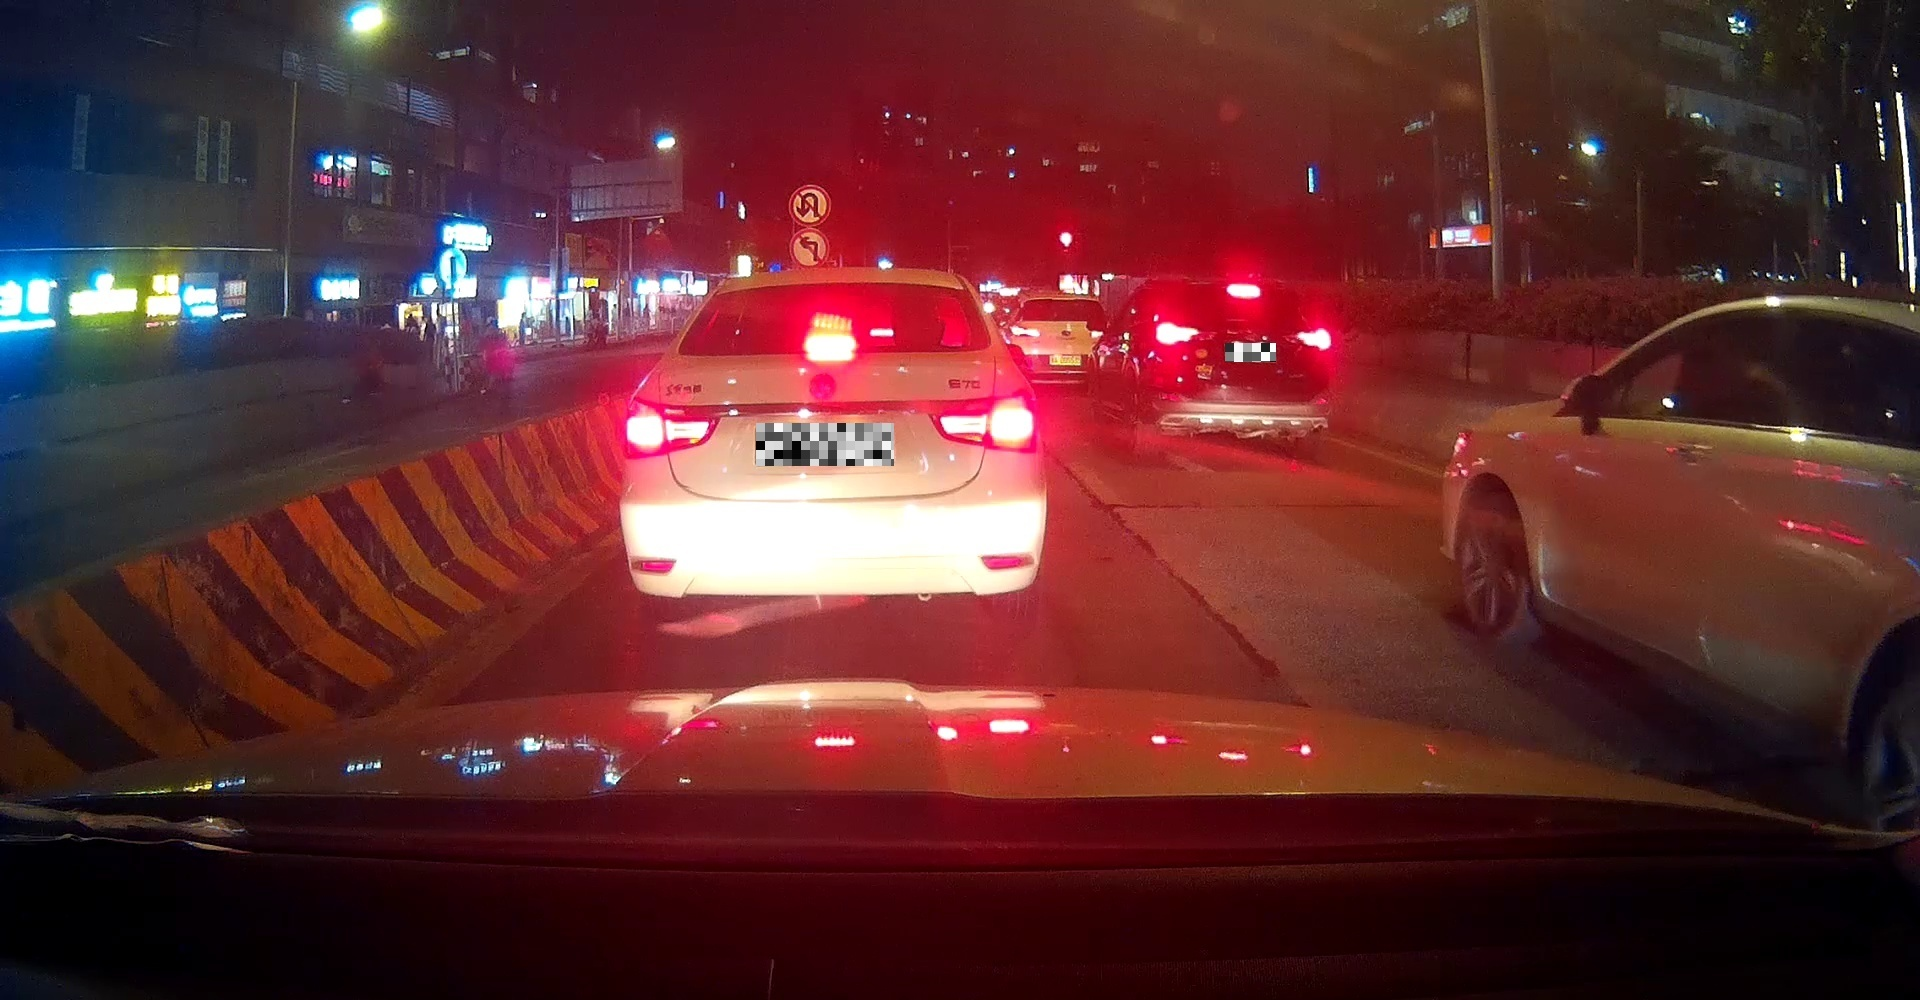L_light: (622, 396, 721, 459), (1156, 324, 1197, 343)
R_light: (927, 390, 1037, 453), (1294, 327, 1330, 350)
T_light: (803, 334, 857, 352), (1227, 284, 1260, 299)
night-brake: (618, 268, 1049, 638), (1152, 277, 1331, 457)
plate_1: (756, 423, 894, 466)
plate_2: (1225, 343, 1276, 362)
